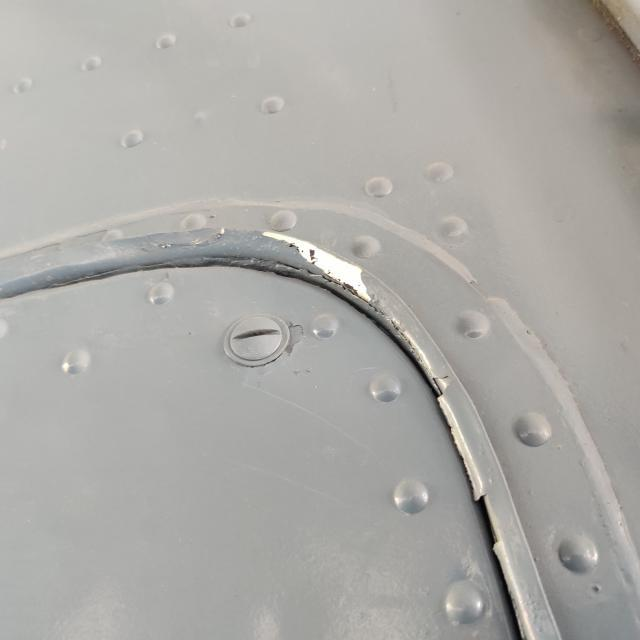paint-off: (250, 215, 393, 316)
